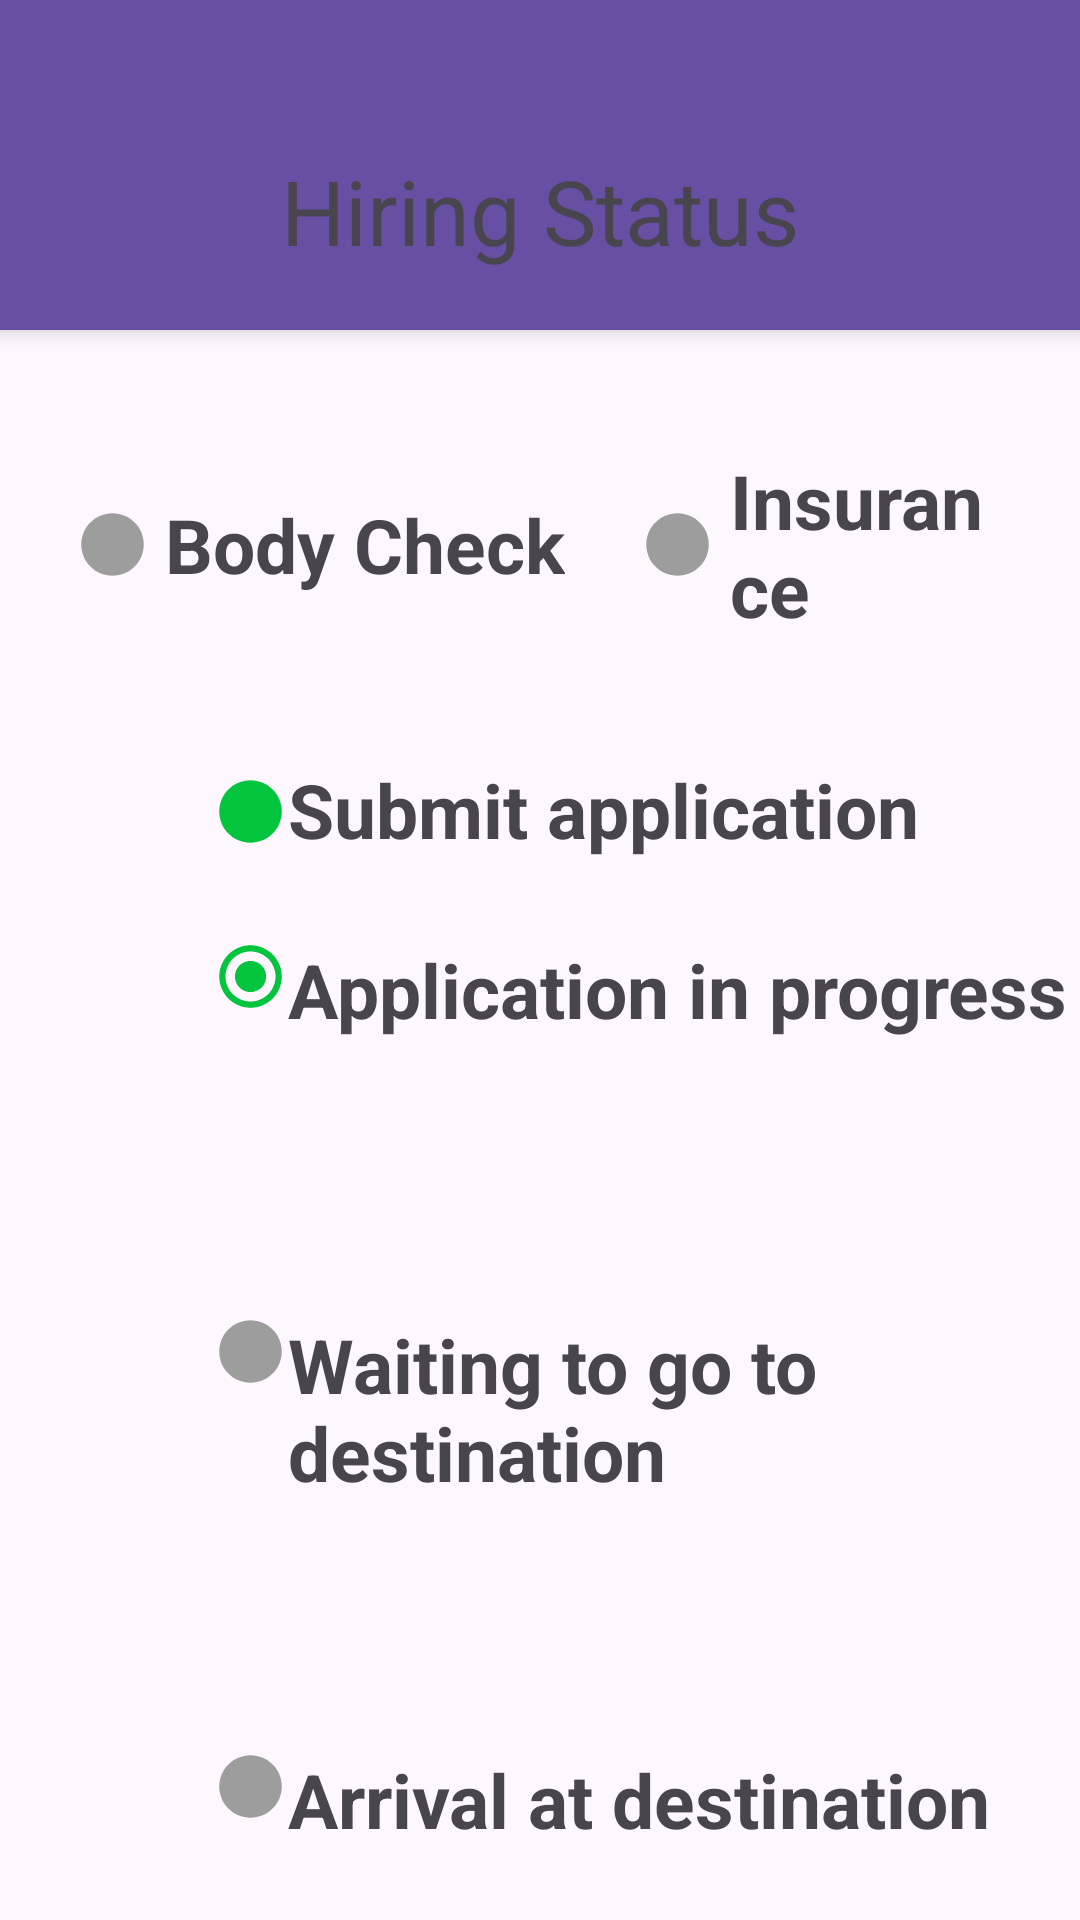

Screen size 1080*1920. Icon name, then its box in pixels as {"x1": x1, "y1": y1, "x2": x2, "y2": y2}:
current status: {"x1": 219, "y1": 945, "x2": 282, "y2": 1008}
